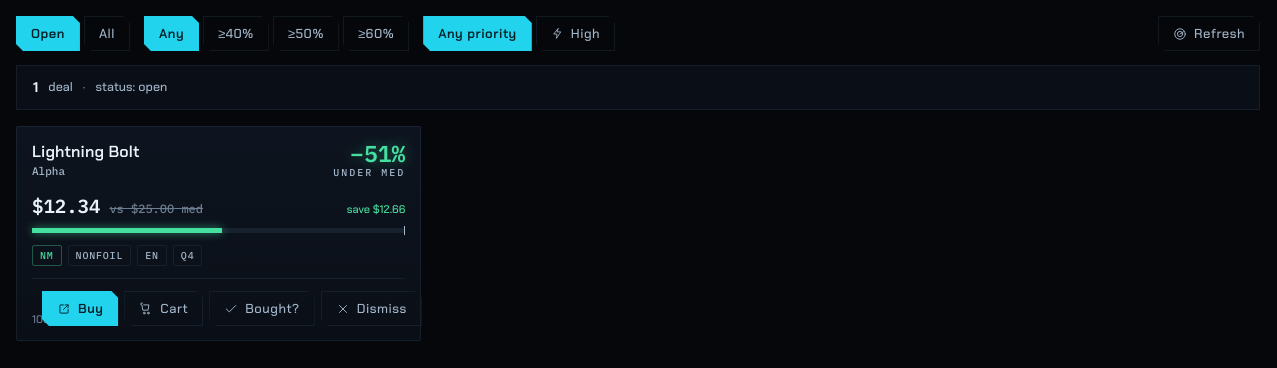
it: DealFeed › failed dismiss: shows the API error instead of silently doing nothing
Click the button with aria-label "Dismiss deal" at (371, 308), box [321,291,422,326]
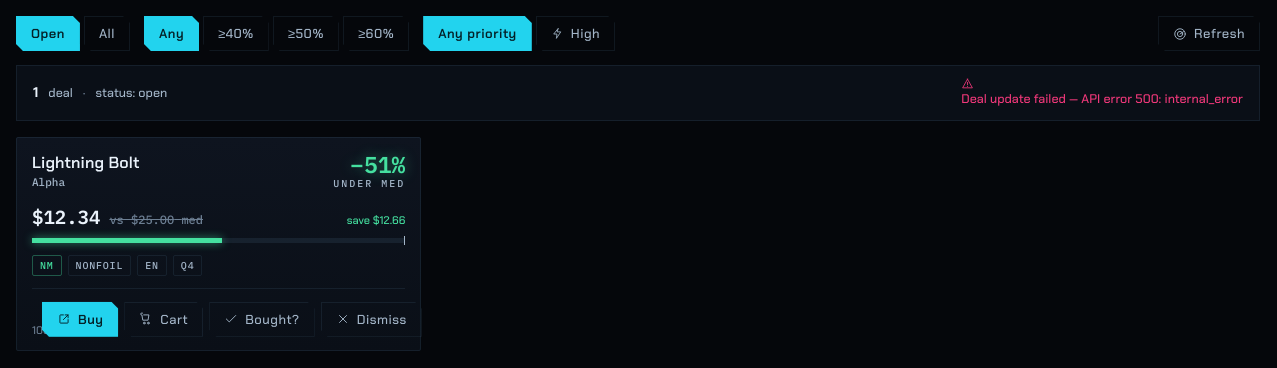
Check: the message reads "Deal update failed — API error 500: internal_error", box [961,77,1243,109]
